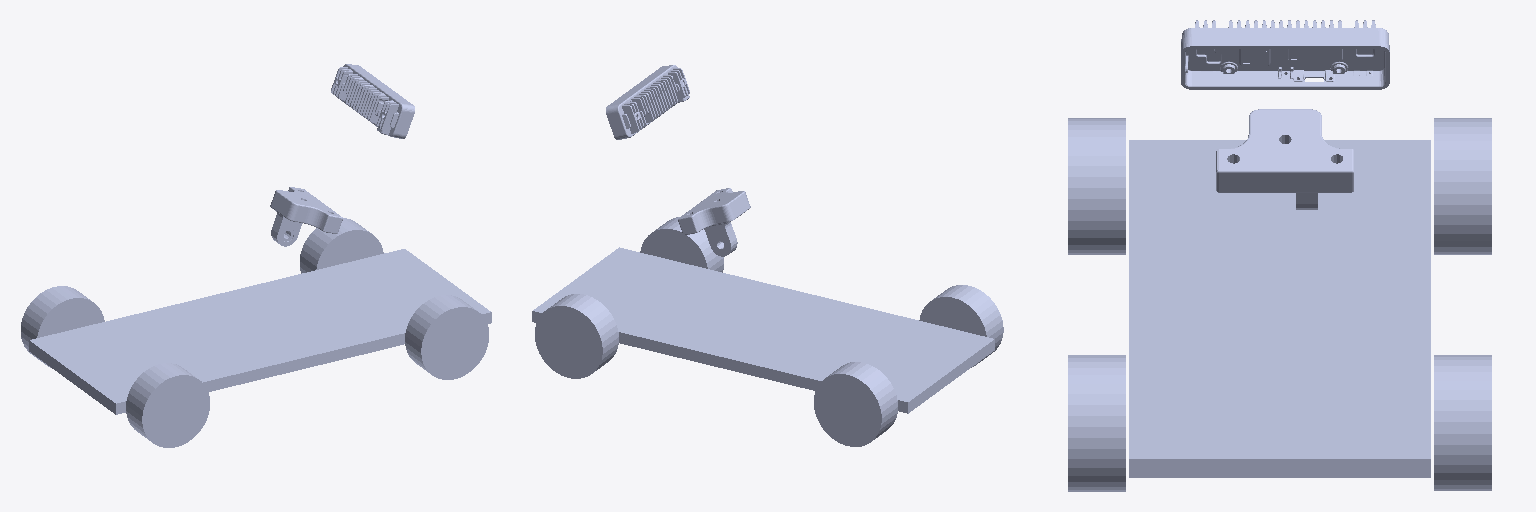
The robot description file, URDF, robot "coordinate_assembly.SLDASM":
<?xml version="1.0" encoding="utf-8"?>
<!-- This URDF was automatically created by SolidWorks to URDF Exporter! Originally created by Stephen Brawner (brawner@gmail.com) 
     Commit Version: 1.6.0-4-g7f85cfe  Build Version: 1.6.7995.38578
     For more information, please see http://wiki.ros.org/sw_urdf_exporter -->
<robot
  name="coordinate_assembly.SLDASM">
  <link
    name="base_link">
    <inertial>
      <origin
        xyz="0.135 6.93889390390723E-17 -0.005"
        rpy="0 0 0" />
      <mass
        value="0.49" />
      <inertia
        ixx="0.000804416666666667"
        ixy="-9.62337848298127E-20"
        ixz="-1.10552481521105E-21"
        iyy="0.00500616666666666"
        iyz="-2.31413918698927E-21"
        izz="0.00580241666666666" />
    </inertial>
    <visual>
      <origin
        xyz="0 0 0"
        rpy="0 0 0" />
      <geometry>
        <mesh
          filename="package://coordinate_assembly.SLDASM/meshes/base_link.STL" />
      </geometry>
      <material
        name="">
        <color
          rgba="0.792156862745098 0.819607843137255 0.933333333333333 1" />
      </material>
    </visual>
    <collision>
      <origin
        xyz="0 0 0"
        rpy="0 0 0" />
      <geometry>
        <mesh
          filename="package://coordinate_assembly.SLDASM/meshes/base_link.STL" />
      </geometry>
    </collision>
  </link>
  <link
    name="camera_mount_link">
    <inertial>
      <origin
        xyz="-0.00942839248304894 0.0015349334670499 -0.0105958484470582"
        rpy="0 0 0" />
      <mass
        value="0.0317602721532027" />
      <inertia
        ixx="8.91808136721681E-06"
        ixy="1.27804504034124E-07"
        ixz="-2.38980667904457E-07"
        iyy="6.11981500646794E-06"
        iyz="8.1492724654572E-07"
        izz="1.02408078186826E-05" />
    </inertial>
    <visual>
      <origin
        xyz="0 0 0"
        rpy="0 0 0" />
      <geometry>
        <mesh
          filename="package://coordinate_assembly.SLDASM/meshes/camera_mount_link.STL" />
      </geometry>
      <material
        name="">
        <color
          rgba="0.792156862745098 0.819607843137255 0.933333333333333 1" />
      </material>
    </visual>
    <collision>
      <origin
        xyz="0 0 0"
        rpy="0 0 0" />
      <geometry>
        <mesh
          filename="package://coordinate_assembly.SLDASM/meshes/camera_mount_link.STL" />
      </geometry>
    </collision>
  </link>
  <joint
    name="base_to_camera_mount_joint"
    type="fixed">
    <origin
      xyz="0.18853 0.0025 0.097083"
      rpy="0 0.38397 0" />
    <parent
      link="base_link" />
    <child
      link="camera_mount_link" />
    <axis
      xyz="0 0 0" />
  </joint>
  <link
    name="camera_base_link">
    <inertial>
      <origin
        xyz="-0.0131960411571118 -0.000173082219518506 -0.00463193948361613"
        rpy="0 0 0" />
      <mass
        value="0.0206761114275171" />
      <inertia
        ixx="1.77975070392948E-05"
        ixy="-1.34409441413317E-08"
        ixz="-1.5980564905893E-08"
        iyy="2.05307099021103E-06"
        iyz="-8.59134890846374E-08"
        izz="1.6637825255002E-05" />
    </inertial>
    <visual>
      <origin
        xyz="0 0 0"
        rpy="0 0 0" />
      <geometry>
        <mesh
          filename="package://coordinate_assembly.SLDASM/meshes/camera_base_link.STL" />
      </geometry>
      <material
        name="">
        <color
          rgba="0.792156862745098 0.819607843137255 0.933333333333333 1" />
      </material>
    </visual>
    <collision>
      <origin
        xyz="0 0 0"
        rpy="0 0 0" />
      <geometry>
        <mesh
          filename="package://coordinate_assembly.SLDASM/meshes/camera_base_link.STL" />
      </geometry>
    </collision>
  </link>
  <joint
    name="camera_mount_to_camera_base_joint"
    type="fixed">
    <origin
      xyz="0.029401 0 0.096464"
      rpy="0 0 0" />
    <parent
      link="camera_mount_link" />
    <child
      link="camera_base_link" />
    <axis
      xyz="0 0 0" />
  </joint>
  <link
    name="tyre_rear_left_link">
    <inertial>
      <origin
        xyz="-5.55111512312578E-17 0 -8.17378446053356E-20"
        rpy="0 0 0" />
      <mass
        value="0.0839234262255232" />
      <inertia
        ixx="2.60612835512728E-05"
        ixy="-5.72414267151622E-37"
        ixz="-1.68965426457498E-22"
        iyy="4.23000294247333E-05"
        iyz="-4.58049537032186E-38"
        izz="2.60612835512728E-05" />
    </inertial>
    <visual>
      <origin
        xyz="0 0 0"
        rpy="0 0 0" />
      <geometry>
        <mesh
          filename="package://coordinate_assembly.SLDASM/meshes/tyre_rear_left_link.STL" />
      </geometry>
      <material
        name="">
        <color
          rgba="0.792156862745098 0.819607843137255 0.933333333333333 1" />
      </material>
    </visual>
    <collision>
      <origin
        xyz="0 0 0"
        rpy="0 0 0" />
      <geometry>
        <mesh
          filename="package://coordinate_assembly.SLDASM/meshes/tyre_rear_left_link.STL" />
      </geometry>
    </collision>
  </link>
  <joint
    name="rear_left_wheel_joint"
    type="continuous">
    <origin
      xyz="0 0.085 -0.005"
      rpy="0 0 0" />
    <parent
      link="base_link" />
    <child
      link="tyre_rear_left_link" />
    <axis
      xyz="0 -1 0" />
  </joint>
  <link
    name="tyre_rear_right_link">
    <inertial>
      <origin
        xyz="-5.55111512312578E-17 1.73472347597681E-18 -6.18854024935433E-19"
        rpy="0 0 0" />
      <mass
        value="0.0839234262255231" />
      <inertia
        ixx="2.60612835512727E-05"
        ixy="-1.16752531275512E-25"
        ixz="-7.30676207755174E-25"
        iyy="4.23000294247332E-05"
        iyz="-7.47936882605865E-22"
        izz="2.60612835512727E-05" />
    </inertial>
    <visual>
      <origin
        xyz="0 0 0"
        rpy="0 0 0" />
      <geometry>
        <mesh
          filename="package://coordinate_assembly.SLDASM/meshes/tyre_rear_right_link.STL" />
      </geometry>
      <material
        name="">
        <color
          rgba="0.792156862745098 0.819607843137255 0.933333333333333 1" />
      </material>
    </visual>
    <collision>
      <origin
        xyz="0 0 0"
        rpy="0 0 0" />
      <geometry>
        <mesh
          filename="package://coordinate_assembly.SLDASM/meshes/tyre_rear_right_link.STL" />
      </geometry>
    </collision>
  </link>
  <joint
    name="rear_right_wheel_joint"
    type="continuous">
    <origin
      xyz="0 -0.085 -0.005"
      rpy="0 0 0" />
    <parent
      link="base_link" />
    <child
      link="tyre_rear_right_link" />
    <axis
      xyz="0 -1 0" />
  </joint>
  <link
    name="front_left_steering_link">
    <inertial>
      <origin
        xyz="-0.125 -0.07 -0.005"
        rpy="0 0 0" />
      <mass
        value="0.49" />
      <inertia
        ixx="0.000804416666666667"
        ixy="-9.62337848298127E-20"
        ixz="-1.10552481521105E-21"
        iyy="0.00500616666666666"
        iyz="-2.31413918698927E-21"
        izz="0.00580241666666666" />
    </inertial>
    <visual>
      <origin
        xyz="0 0 0"
        rpy="0 0 0" />
      <geometry>
        <mesh
          filename="package://coordinate_assembly.SLDASM/meshes/front_left_steering_link.STL" />
      </geometry>
      <material
        name="">
        <color
          rgba="0.792156862745098 0.819607843137255 0.933333333333333 1" />
      </material>
    </visual>
    <collision>
      <origin
        xyz="0 0 0"
        rpy="0 0 0" />
      <geometry>
        <mesh
          filename="package://coordinate_assembly.SLDASM/meshes/front_left_steering_link.STL" />
      </geometry>
    </collision>
  </link>
  <joint
    name="front_left_steering_joint"
    type="revolute">
    <origin
      xyz="0.26 0.07 0"
      rpy="0 0 0" />
    <parent
      link="base_link" />
    <child
      link="front_left_steering_link" />
    <axis
      xyz="0 0 -1" />
    <limit
      lower="0"
      upper="0"
      effort="0"
      velocity="0" />
  </joint>
  <link
    name="tyre_front_left_link">
    <inertial>
      <origin
        xyz="0 0 -3.84617040823464E-20"
        rpy="0 0 0" />
      <mass
        value="0.0839234262255232" />
      <inertia
        ixx="2.60612835512728E-05"
        ixy="7.48212436741299E-22"
        ixz="-3.94223250867939E-21"
        iyy="4.23000294247333E-05"
        iyz="-3.7410621837065E-22"
        izz="2.60612835512728E-05" />
    </inertial>
    <visual>
      <origin
        xyz="0 0 0"
        rpy="0 0 0" />
      <geometry>
        <mesh
          filename="package://coordinate_assembly.SLDASM/meshes/tyre_front_left_link.STL" />
      </geometry>
      <material
        name="">
        <color
          rgba="0.792156862745098 0.819607843137255 0.933333333333333 1" />
      </material>
    </visual>
    <collision>
      <origin
        xyz="0 0 0"
        rpy="0 0 0" />
      <geometry>
        <mesh
          filename="package://coordinate_assembly.SLDASM/meshes/tyre_front_left_link.STL" />
      </geometry>
    </collision>
  </link>
  <joint
    name="front_left_wheel_joint"
    type="continuous">
    <origin
      xyz="0 0.015 -0.005"
      rpy="0 0 0" />
    <parent
      link="front_left_steering_link" />
    <child
      link="tyre_front_left_link" />
    <axis
      xyz="0 -1 0" />
  </joint>
  <link
    name="front_right_steering_link">
    <inertial>
      <origin
        xyz="-0.125 0.07 -0.005"
        rpy="0 0 0" />
      <mass
        value="0.49" />
      <inertia
        ixx="0.000804416666666667"
        ixy="-9.62337848298127E-20"
        ixz="-1.10552481521105E-21"
        iyy="0.00500616666666666"
        iyz="-2.31413918698927E-21"
        izz="0.00580241666666666" />
    </inertial>
    <visual>
      <origin
        xyz="0 0 0"
        rpy="0 0 0" />
      <geometry>
        <mesh
          filename="package://coordinate_assembly.SLDASM/meshes/front_right_steering_link.STL" />
      </geometry>
      <material
        name="">
        <color
          rgba="0.792156862745098 0.819607843137255 0.933333333333333 1" />
      </material>
    </visual>
    <collision>
      <origin
        xyz="0 0 0"
        rpy="0 0 0" />
      <geometry>
        <mesh
          filename="package://coordinate_assembly.SLDASM/meshes/front_right_steering_link.STL" />
      </geometry>
    </collision>
  </link>
  <joint
    name="front_right_steering_joint"
    type="revolute">
    <origin
      xyz="0.26 -0.07 0"
      rpy="0 0 0" />
    <parent
      link="base_link" />
    <child
      link="front_right_steering_link" />
    <axis
      xyz="0 0 1" />
    <limit
      lower="0"
      upper="0"
      effort="0"
      velocity="0" />
  </joint>
  <link
    name="tyre_front_right_link">
    <inertial>
      <origin
        xyz="-2.77555756156289E-17 3.46944695195361E-18 3.85900142922842E-21"
        rpy="0 0 0" />
      <mass
        value="0.0839234262255231" />
      <inertia
        ixx="2.60612835512727E-05"
        ixy="7.48212436741299E-22"
        ixz="9.35265545926623E-23"
        iyy="4.23000294247332E-05"
        iyz="-9.35265545926623E-23"
        izz="2.60612835512727E-05" />
    </inertial>
    <visual>
      <origin
        xyz="0 0 0"
        rpy="0 0 0" />
      <geometry>
        <mesh
          filename="package://coordinate_assembly.SLDASM/meshes/tyre_front_right_link.STL" />
      </geometry>
      <material
        name="">
        <color
          rgba="0.792156862745098 0.819607843137255 0.933333333333333 1" />
      </material>
    </visual>
    <collision>
      <origin
        xyz="0 0 0"
        rpy="0 0 0" />
      <geometry>
        <mesh
          filename="package://coordinate_assembly.SLDASM/meshes/tyre_front_right_link.STL" />
      </geometry>
    </collision>
  </link>
  <joint
    name="front_right_wheel_joint"
    type="continuous">
    <origin
      xyz="0 -0.015 -0.005"
      rpy="0 0 0" />
    <parent
      link="front_right_steering_link" />
    <child
      link="tyre_front_right_link" />
    <axis
      xyz="0 -1 0" />
  </joint>
</robot>

--- Facts derived from the render (not from the file) ---
The picture shows the robot from 3 angles, left to right: view 1: azimuth 30°, elevation 25°; view 2: azimuth 150°, elevation 25°; view 3: azimuth 270°, elevation 25°; orthographic projection.
Robot: coordinate_assembly.SLDASM — 9 links, 8 joints (2 revolute, 4 continuous, 2 fixed); root link base_link; default pose: all joints at 0.
Visible links, largest first — view 1: front_left_steering_link, base_link, tyre_front_right_link, tyre_rear_right_link, camera_base_link, tyre_rear_left_link, tyre_front_left_link, camera_mount_link; view 2: front_left_steering_link, base_link, tyre_rear_left_link, tyre_front_left_link, camera_base_link, tyre_rear_right_link, camera_mount_link, tyre_front_right_link; view 3: base_link, front_left_steering_link, camera_base_link, camera_mount_link, tyre_rear_left_link, tyre_rear_right_link, tyre_front_right_link, tyre_front_left_link.
Link boxes in pixels (x1=…): front_left_steering_link: x1=29, y1=250, x2=482, y2=414; base_link: x1=66, y1=249, x2=491, y2=414; tyre_front_right_link: x1=405, y1=295, x2=488, y2=379; tyre_rear_right_link: x1=126, y1=363, x2=209, y2=447; camera_base_link: x1=331, y1=64, x2=414, y2=138; tyre_rear_left_link: x1=21, y1=286, x2=104, y2=367; tyre_front_left_link: x1=300, y1=218, x2=383, y2=273; camera_mount_link: x1=270, y1=187, x2=342, y2=246; front_left_steering_link: x1=535, y1=247, x2=994, y2=413; base_link: x1=532, y1=248, x2=988, y2=413; tyre_rear_left_link: x1=814, y1=362, x2=897, y2=446; tyre_front_left_link: x1=535, y1=294, x2=618, y2=378; camera_base_link: x1=606, y1=65, x2=689, y2=139; tyre_rear_right_link: x1=919, y1=285, x2=1003, y2=367; camera_mount_link: x1=678, y1=188, x2=750, y2=256; tyre_front_right_link: x1=640, y1=217, x2=723, y2=272; base_link: x1=1129, y1=140, x2=1430, y2=477; front_left_steering_link: x1=1129, y1=140, x2=1430, y2=394; camera_base_link: x1=1181, y1=20, x2=1389, y2=89; camera_mount_link: x1=1216, y1=109, x2=1353, y2=209; tyre_rear_left_link: x1=1434, y1=118, x2=1491, y2=254; tyre_rear_right_link: x1=1068, y1=118, x2=1125, y2=254; tyre_front_right_link: x1=1068, y1=355, x2=1125, y2=491; tyre_front_left_link: x1=1434, y1=355, x2=1491, y2=490.
Size in the robot's own frame: 0.35 by 0.1965 by 0.2263 metres.
Meshes: 9 distinct files referenced, 9 mesh visuals loaded (9 binary STL).
